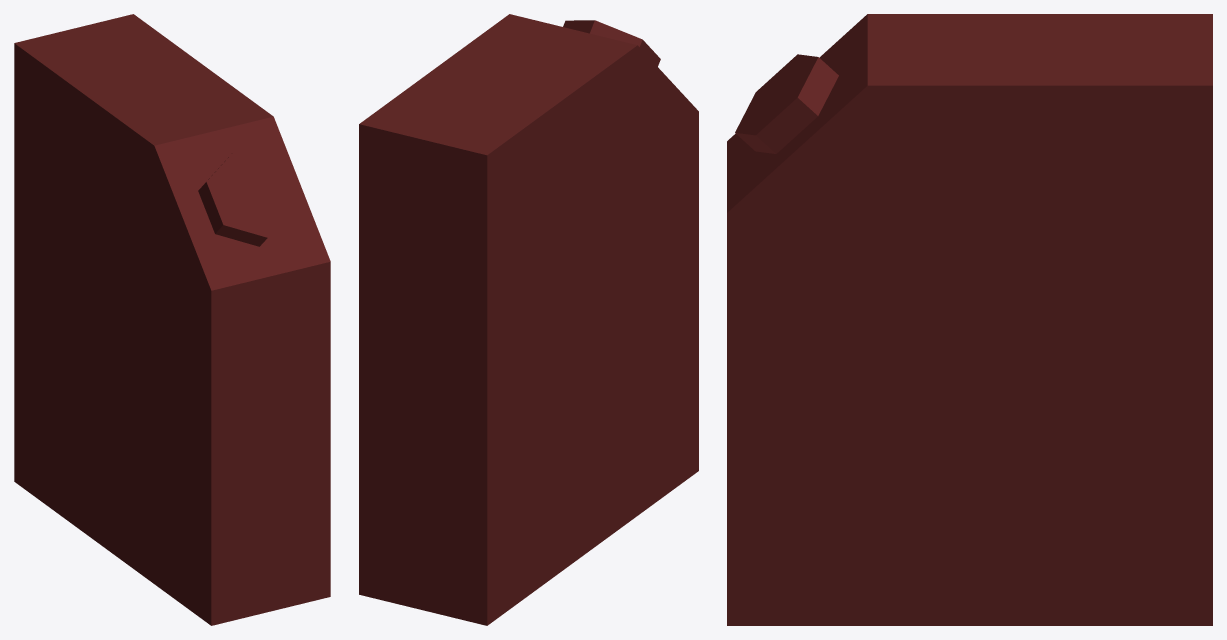
3 renders of one model, left to right at view 1: azimuth 30°, elevation 25°; view 2: azimuth 150°, elevation 25°; view 3: azimuth 270°, elevation 25°, orthographic. The views are drawn at different scales.
Visible parts, largest first — view 1: Cube; view 2: Cube; view 3: Cube.
Boxes of the visible parts, box(x1,y1,x2,y2) form: Cube: box(14, 14, 330, 625); Cube: box(359, 14, 698, 625); Cube: box(727, 14, 1212, 625).
Size of what is drawn, in the model's own units: 0.1401 by 0.492 by 0.401.
